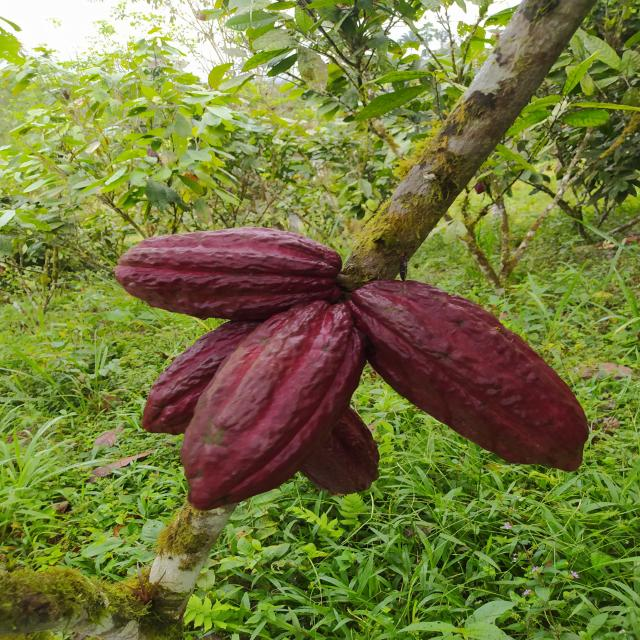Sana: (345, 279, 588, 472), (180, 299, 365, 510), (110, 226, 342, 320), (138, 317, 270, 438), (296, 400, 379, 495)
